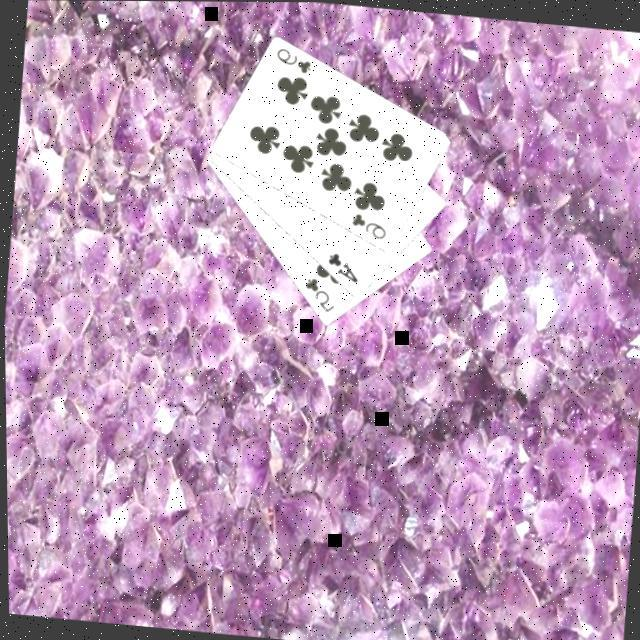5C: (299, 271, 339, 314)
9C: (346, 206, 390, 240), (272, 42, 315, 75)
AC: (322, 246, 363, 283)
